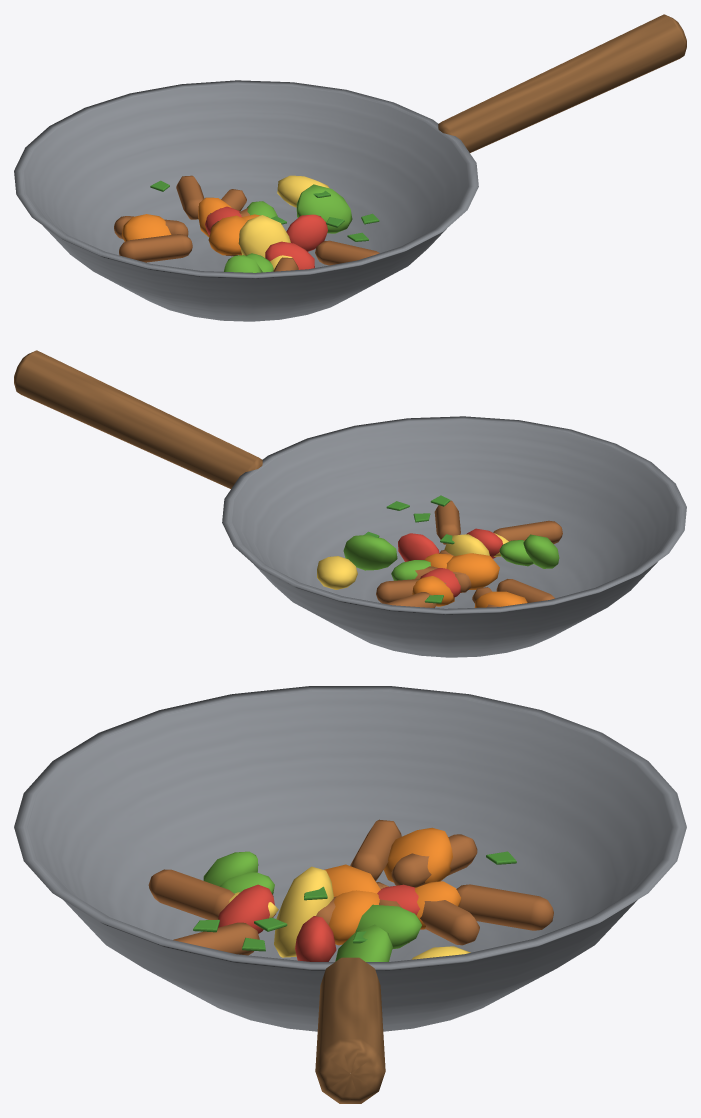
The model's file is stir_fry.glb.
3 renders of one model, top to bottom at view 1: azimuth 30°, elevation 25°; view 2: azimuth 150°, elevation 25°; view 3: azimuth 270°, elevation 25°, orthographic. The views are drawn at different scales.
Parts seen in each view (by area): view 1: stir_fry; view 2: stir_fry; view 3: stir_fry.
Part boxes in pixels (box(x1,y1,x2,y2)): stir_fry: box(14, 14, 686, 321); stir_fry: box(14, 350, 686, 657); stir_fry: box(14, 686, 686, 1103).
Size of the model in its own units: 0.4215 by 0.0954 by 0.268.
Materials: 8 (2 with a texture image).
